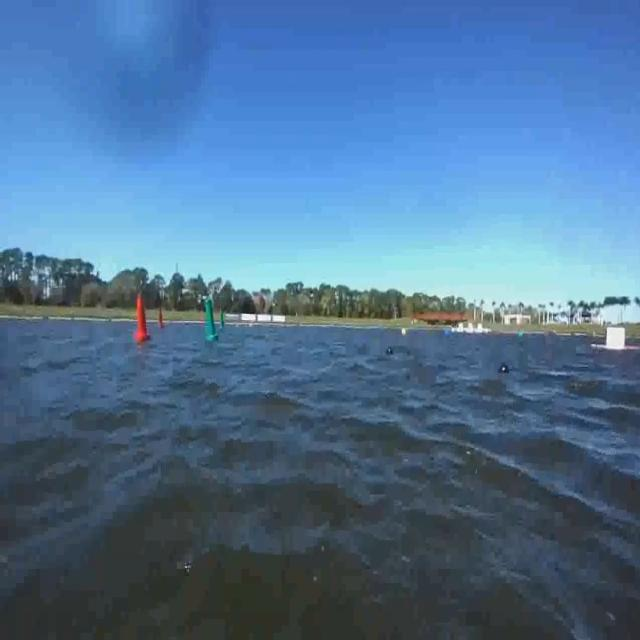green-column-buoy: (202, 300, 220, 344)
red-column-buoy: (133, 293, 151, 342)
